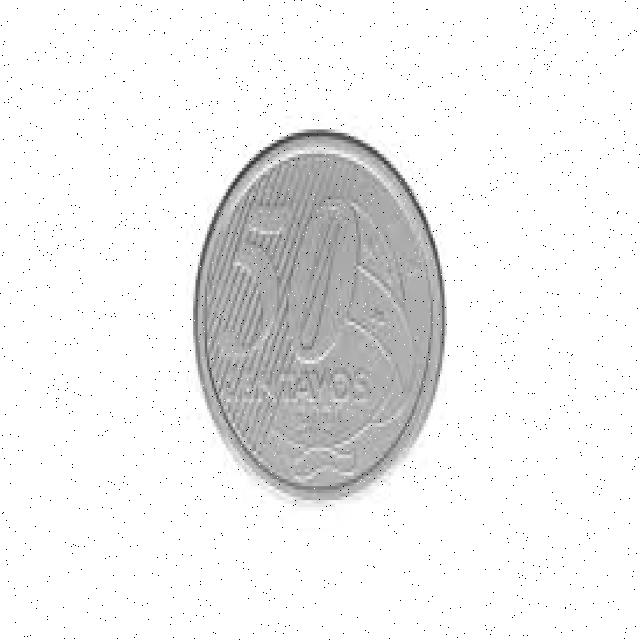50 cent: (190, 123, 447, 515)
